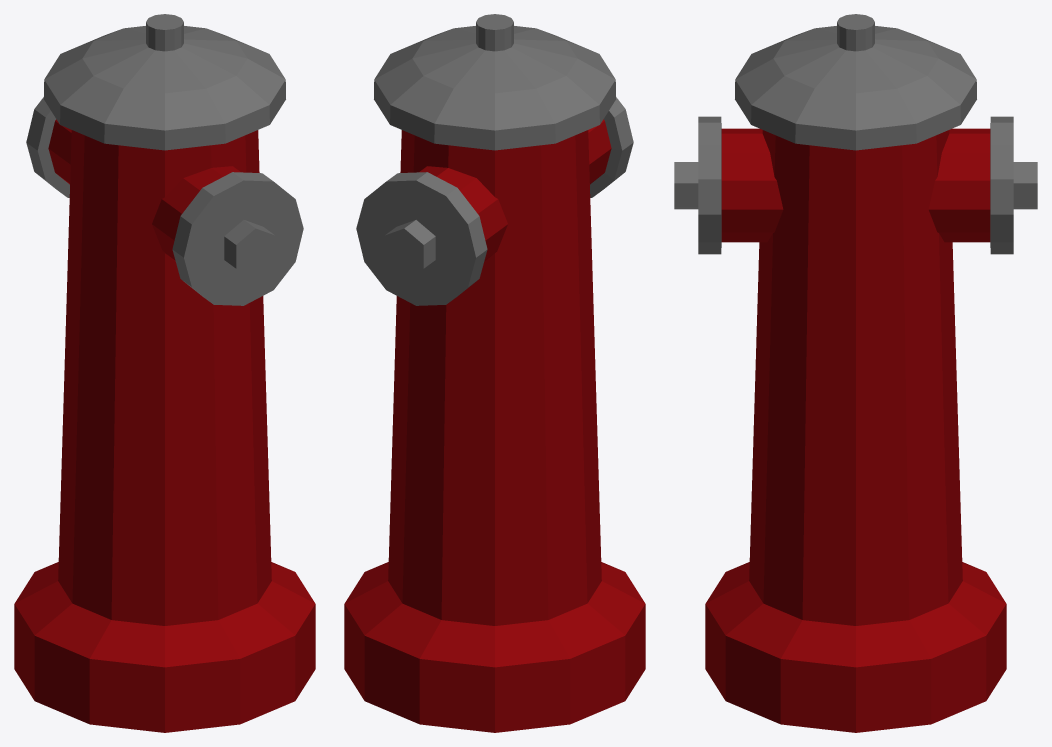
Rendered from Hydrant.fbx.
The picture shows the model from 3 angles, left to right: view 1: azimuth 30°, elevation 25°; view 2: azimuth 150°, elevation 25°; view 3: azimuth 270°, elevation 25°; orthographic projection.
Parts seen in each view (by area): view 1: Hydrant; view 2: Hydrant; view 3: Hydrant.
Boxes of the visible parts, x1,y1,x2,y2 form: Hydrant: (14, 14, 315, 732); Hydrant: (344, 14, 645, 732); Hydrant: (674, 14, 1037, 732).
Bounding box in the file's own units: 43.29 × 103 × 52.2.
